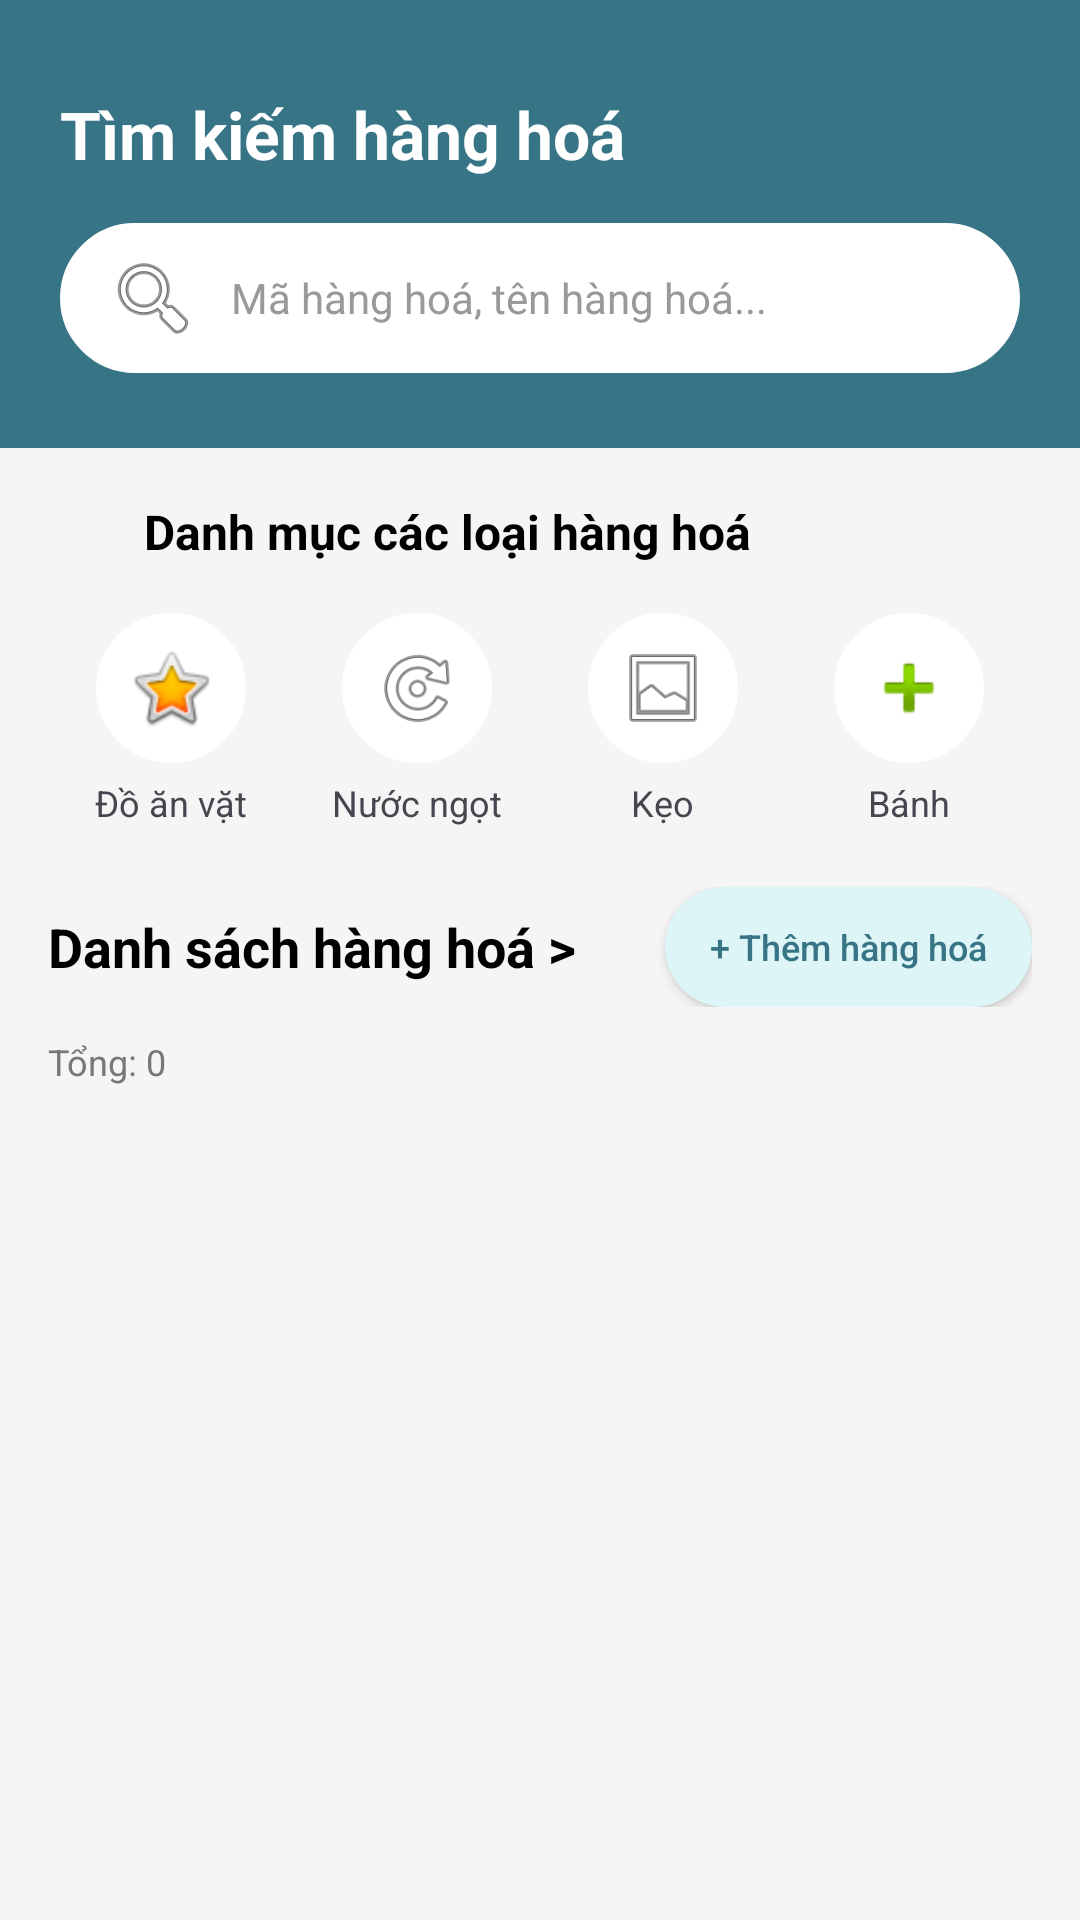

Where icons sit on this 1080x1920 app screen, as (x1, y1, x2, y2):
add: (834, 613, 984, 763)
gallery: (588, 613, 738, 763)
rotate: (342, 613, 492, 763)
star on: (134, 652, 209, 725)
